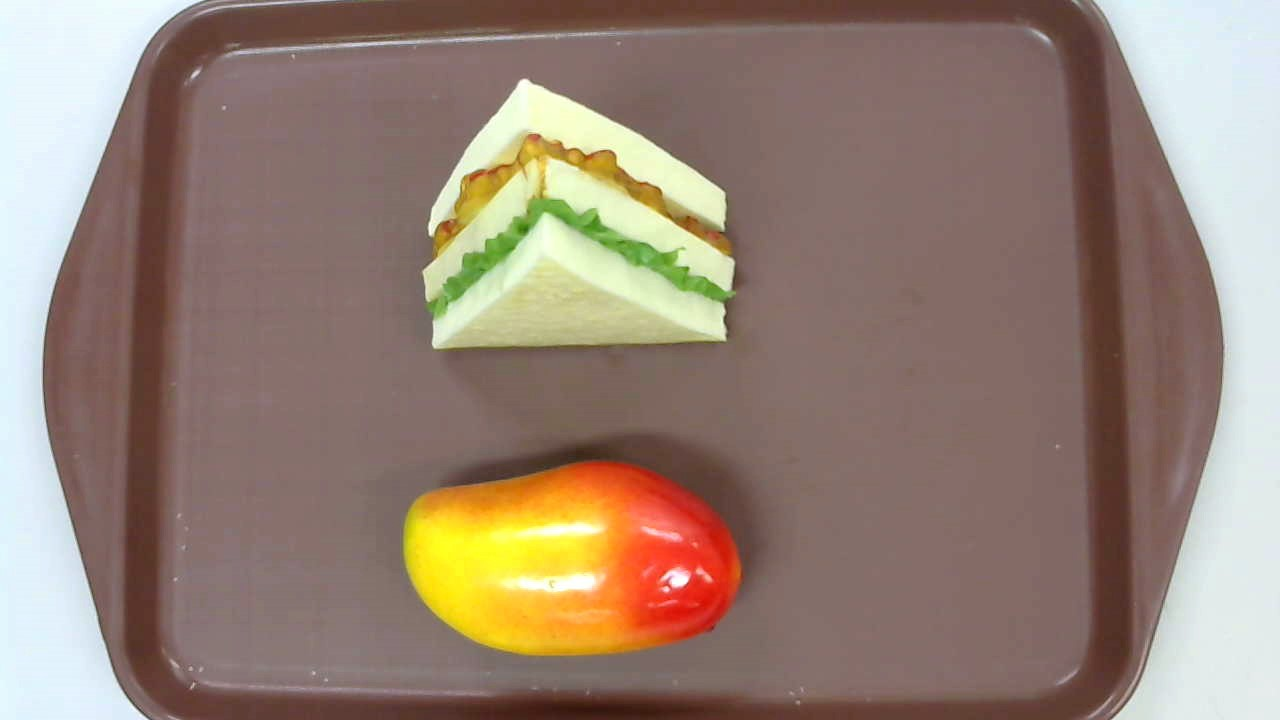red mango: (403, 459, 741, 654)
sandwich: (422, 77, 740, 349)
